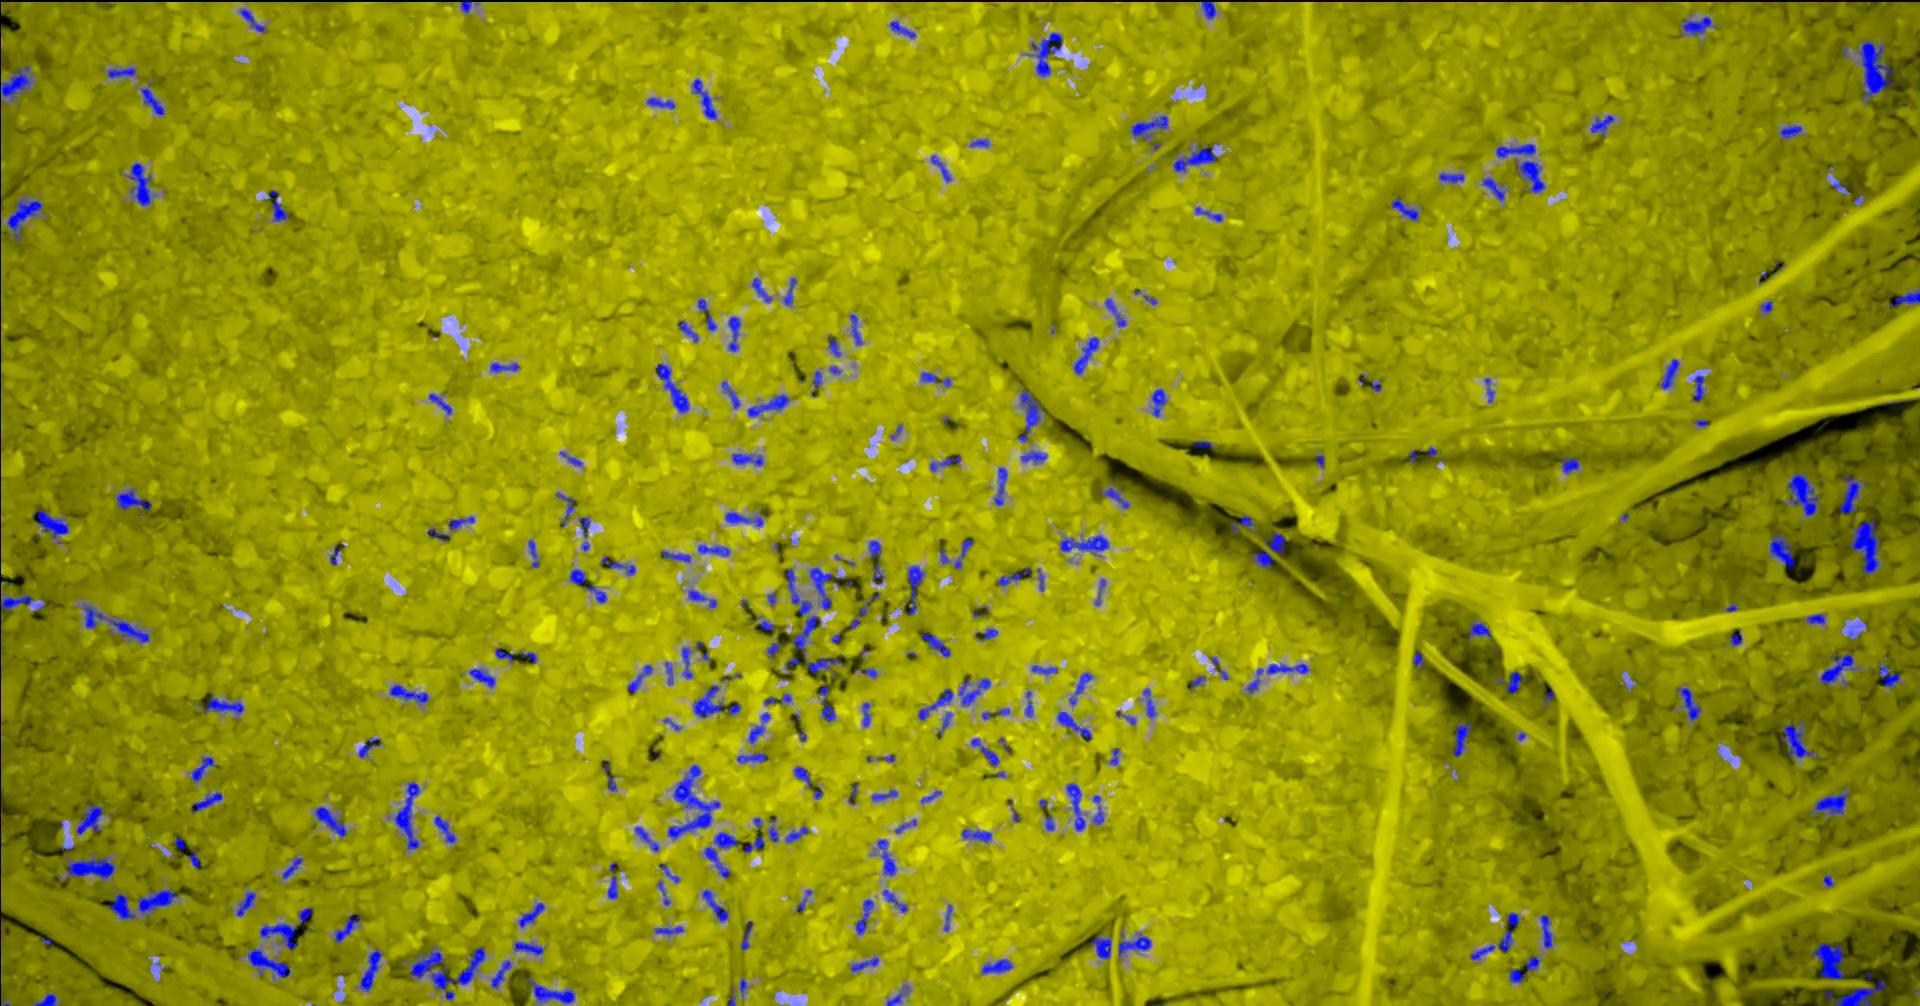ant: (785, 568, 820, 659), (83, 603, 149, 641), (1470, 912, 1517, 959), (1246, 663, 1308, 694), (392, 781, 419, 848), (1849, 520, 1879, 574), (1025, 32, 1062, 76), (6, 196, 42, 241), (657, 363, 690, 412), (1779, 719, 1817, 758), (693, 685, 740, 716), (1784, 473, 1818, 516), (703, 832, 737, 876), (62, 854, 114, 882), (524, 976, 574, 1005), (1832, 978, 1884, 1005), (248, 948, 290, 979), (569, 568, 606, 603), (1017, 390, 1043, 441), (1818, 653, 1859, 683), (1251, 531, 1285, 567), (1810, 942, 1843, 979), (1173, 144, 1217, 171), (124, 163, 152, 205), (1810, 786, 1848, 815), (0, 65, 30, 100), (1839, 474, 1865, 514), (917, 688, 952, 719), (691, 77, 716, 119), (30, 511, 69, 539), (137, 888, 178, 913), (747, 392, 789, 417), (1072, 337, 1098, 373), (904, 565, 924, 614), (314, 807, 345, 837), (1515, 159, 1544, 192), (809, 567, 832, 608), (1059, 535, 1109, 554), (259, 923, 296, 949), (359, 948, 381, 991), (1057, 711, 1091, 738), (1065, 782, 1084, 829), (1769, 533, 1796, 567), (957, 678, 990, 705), (76, 803, 103, 835), (1130, 116, 1167, 138), (702, 889, 728, 921), (389, 683, 428, 704), (203, 694, 243, 714), (140, 83, 164, 116), (1068, 672, 1092, 705), (1676, 687, 1700, 720), (116, 488, 150, 511), (970, 738, 998, 766), (107, 892, 135, 920), (0, 594, 30, 620), (264, 189, 288, 221), (1495, 671, 1528, 694), (1117, 934, 1150, 956), (876, 840, 897, 875), (334, 915, 359, 942), (599, 556, 635, 575), (517, 902, 543, 927), (627, 664, 651, 692), (921, 633, 950, 655), (1098, 486, 1129, 508), (748, 713, 770, 743), (555, 492, 574, 526), (996, 567, 1030, 586), (1451, 721, 1470, 756), (190, 791, 222, 812), (634, 826, 659, 851), (239, 8, 265, 32), (1390, 197, 1418, 220), (808, 655, 843, 673), (869, 540, 883, 584), (1681, 17, 1716, 34), (190, 756, 213, 782), (855, 899, 872, 934), (697, 298, 716, 330), (1103, 298, 1125, 326), (952, 539, 973, 568), (819, 683, 834, 721), (930, 154, 951, 180), (1495, 144, 1535, 158), (490, 960, 510, 988), (883, 889, 907, 912), (1888, 290, 1919, 307), (434, 815, 455, 842), (724, 512, 762, 526), (1481, 177, 1503, 199), (1590, 114, 1614, 136), (1660, 358, 1677, 387), (687, 589, 716, 607), (750, 277, 771, 302), (235, 890, 255, 916), (469, 668, 495, 687), (930, 455, 960, 471), (721, 380, 739, 408), (428, 392, 451, 414), (1090, 935, 1111, 958), (1467, 620, 1491, 640), (1878, 663, 1898, 687), (994, 467, 1007, 506), (889, 20, 916, 38), (677, 320, 698, 342), (982, 958, 1012, 973), (1230, 514, 1255, 533), (281, 857, 302, 878), (886, 984, 908, 1005), (728, 316, 740, 351), (858, 592, 877, 615), (357, 738, 380, 757), (1194, 206, 1222, 221), (919, 372, 950, 386), (513, 941, 543, 955), (792, 766, 811, 788), (658, 862, 679, 882), (1150, 387, 1164, 417), (961, 828, 990, 842), (850, 314, 862, 345), (783, 826, 808, 842), (850, 956, 877, 970), (697, 544, 730, 555), (607, 862, 617, 899), (681, 647, 692, 678), (744, 835, 764, 852), (795, 889, 811, 911), (448, 514, 474, 528), (1143, 688, 1156, 716), (30, 992, 58, 1005), (559, 451, 582, 466), (731, 453, 762, 465), (740, 920, 752, 950), (1691, 375, 1704, 401), (937, 711, 951, 735), (1830, 178, 1850, 194), (579, 517, 589, 550), (1540, 915, 1550, 948), (1092, 795, 1103, 824), (329, 542, 344, 564), (646, 97, 674, 108), (783, 277, 795, 305), (527, 539, 538, 567), (662, 550, 690, 561), (657, 882, 670, 904), (1437, 171, 1464, 183), (1020, 451, 1046, 462), (870, 789, 897, 800), (1779, 124, 1801, 138), (737, 752, 766, 762), (1559, 457, 1578, 473), (427, 527, 450, 540), (107, 67, 135, 77), (490, 362, 518, 372), (895, 818, 916, 832), (1483, 377, 1495, 401), (975, 627, 997, 640), (811, 370, 822, 396), (764, 694, 791, 704), (1201, 0, 1215, 19), (654, 926, 683, 935), (1031, 664, 1057, 674), (495, 647, 513, 661), (1509, 968, 1526, 982), (828, 337, 841, 356), (173, 836, 185, 855), (188, 848, 201, 868), (1023, 690, 1032, 716), (1525, 955, 1540, 970), (943, 904, 952, 930), (1412, 652, 1423, 671), (768, 817, 777, 841), (298, 907, 312, 922), (853, 668, 876, 677), (767, 641, 781, 655), (758, 619, 775, 630), (1730, 629, 1741, 645), (862, 702, 870, 727), (1806, 614, 1823, 624), (664, 661, 672, 683), (1109, 747, 1117, 765), (607, 775, 616, 791), (969, 138, 988, 146), (1760, 300, 1771, 312), (1192, 439, 1211, 447), (1045, 814, 1054, 829), (460, 0, 471, 11)
